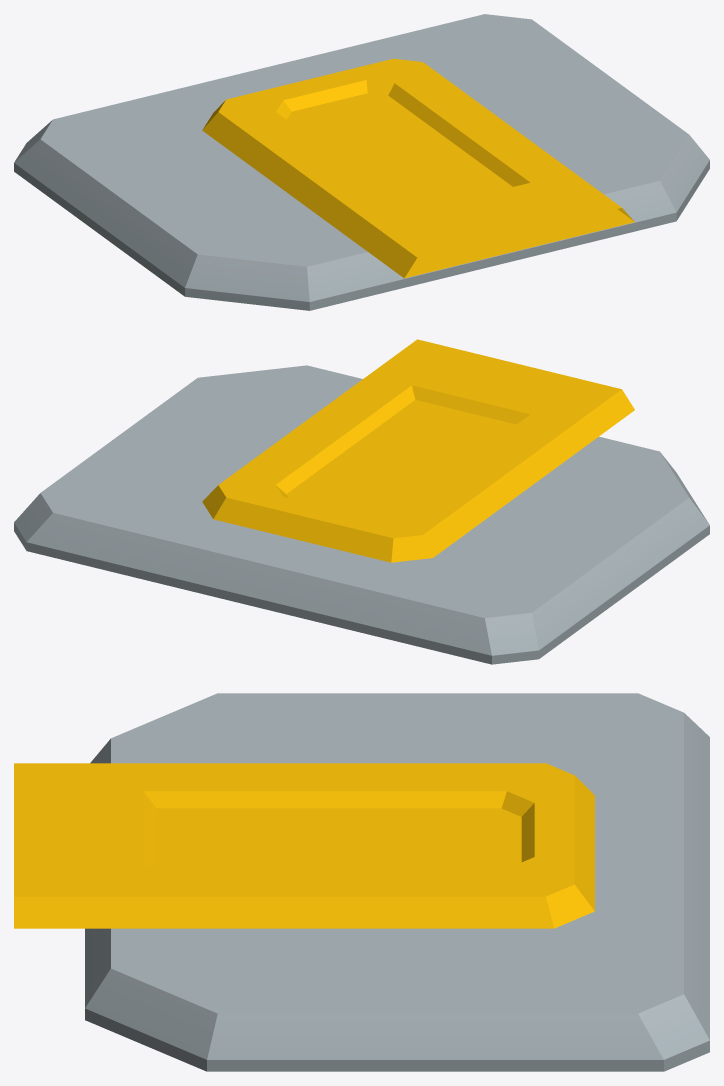
File: Hatch_011_door_001.001.fbx
The picture shows the model from 3 angles, top to bottom: view 1: azimuth 30°, elevation 25°; view 2: azimuth 150°, elevation 25°; view 3: azimuth 270°, elevation 25°; orthographic projection. The views are drawn at different scales.
Visible parts, largest first — view 1: Hatch_011_door_001.001; view 2: Hatch_011_door_001.001; view 3: Hatch_011_door_001.001.
Boxes of the visible parts, box(x1,y1,x2,y2) form: Hatch_011_door_001.001: box(14, 14, 709, 310); Hatch_011_door_001.001: box(14, 339, 709, 664); Hatch_011_door_001.001: box(14, 693, 709, 1071).
Size of the model in its own units: 62.21 by 53.46 by 7.49.
